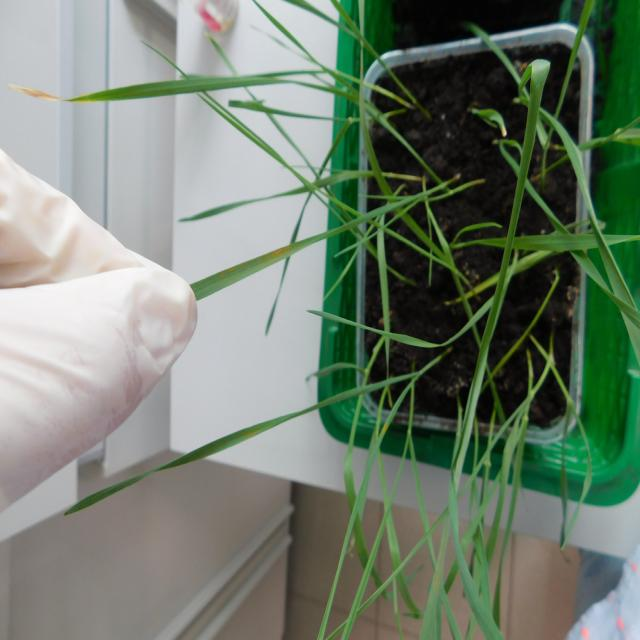wheat-yellowrust: (208, 243, 299, 293)
